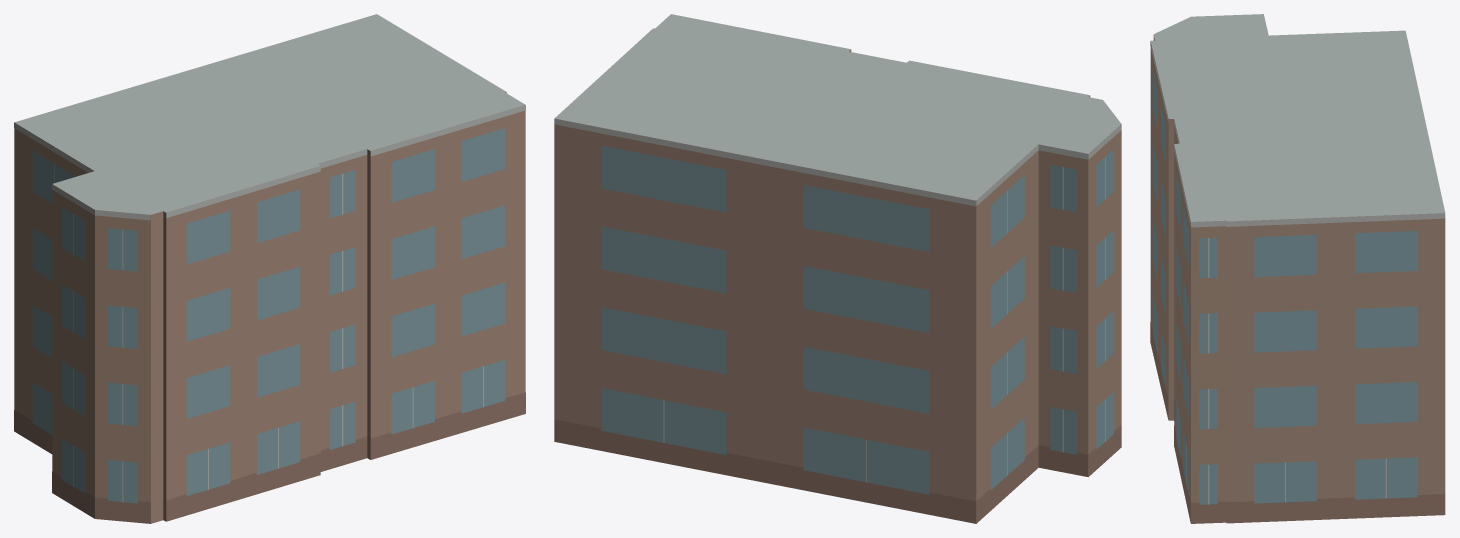
File: survey-upis-32616293.glb
The picture shows the model from 3 angles, left to right: view 1: azimuth 30°, elevation 25°; view 2: azimuth 150°, elevation 25°; view 3: azimuth 270°, elevation 25°; orthographic projection. The views are drawn at different scales.
Parts seen in each view (by area): view 1: survey-upis-32616293.tmp; view 2: survey-upis-32616293.tmp; view 3: survey-upis-32616293.tmp.
Boxes of the visible parts, x1,y1,x2,y2 form: survey-upis-32616293.tmp: (14, 14, 525, 523); survey-upis-32616293.tmp: (554, 14, 1121, 523); survey-upis-32616293.tmp: (1150, 14, 1445, 523).
Size of the model in its own units: 19.91 by 13.47 by 11.93.
